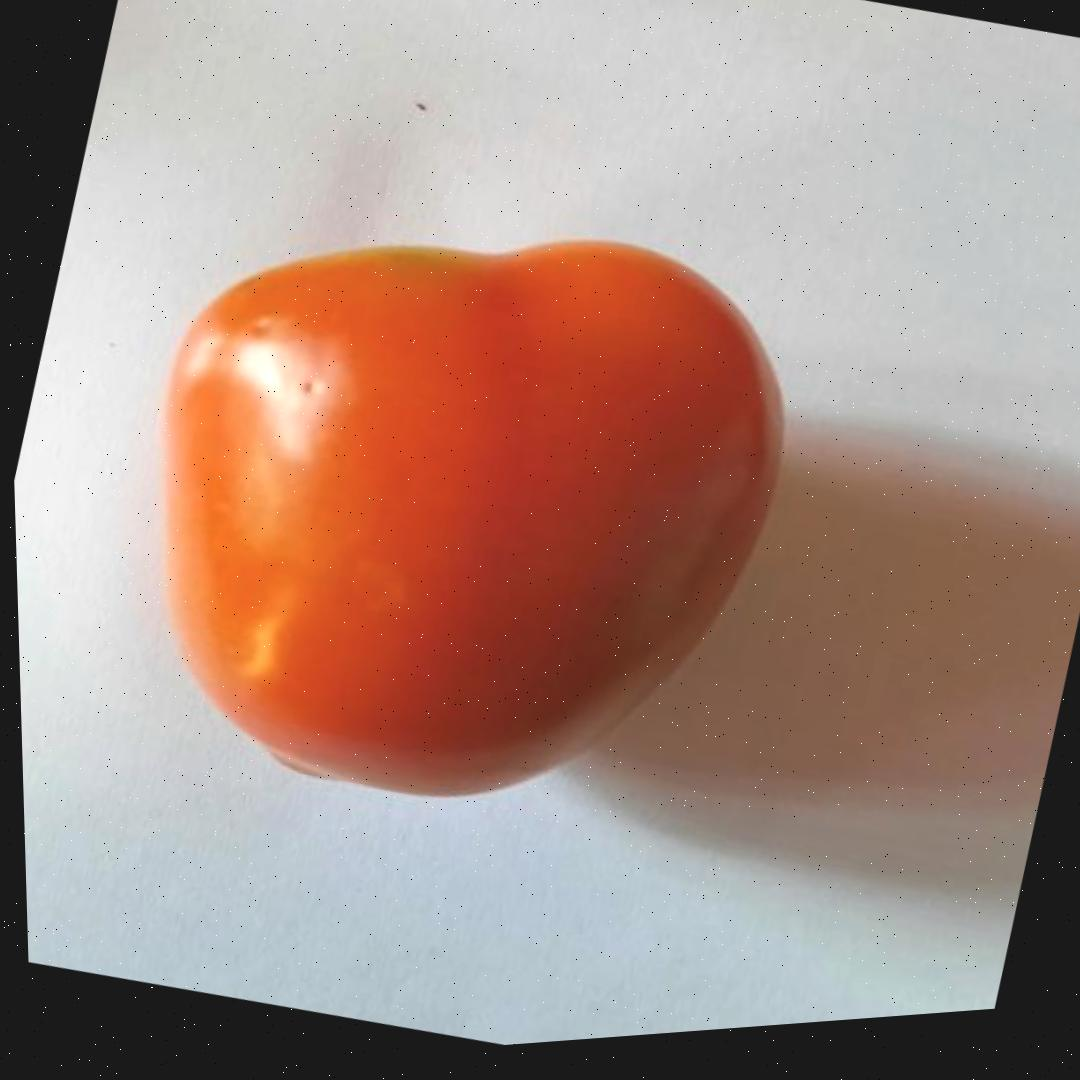matang: (72, 128, 840, 894)
